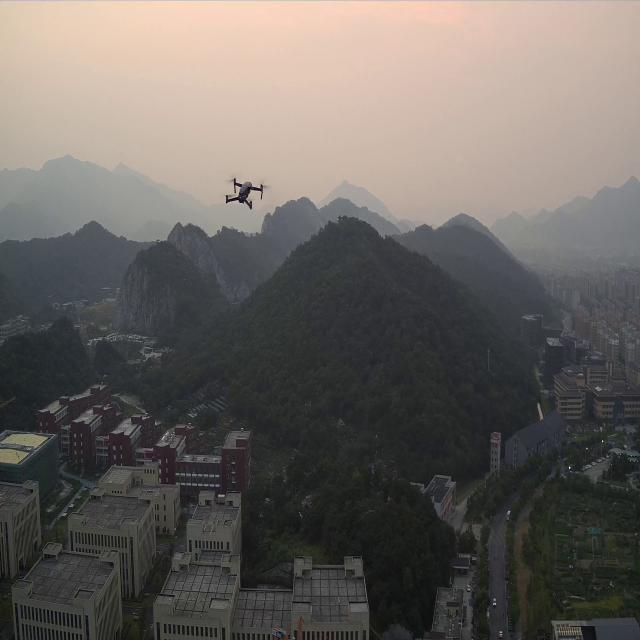UAV: (224, 178, 264, 208)
